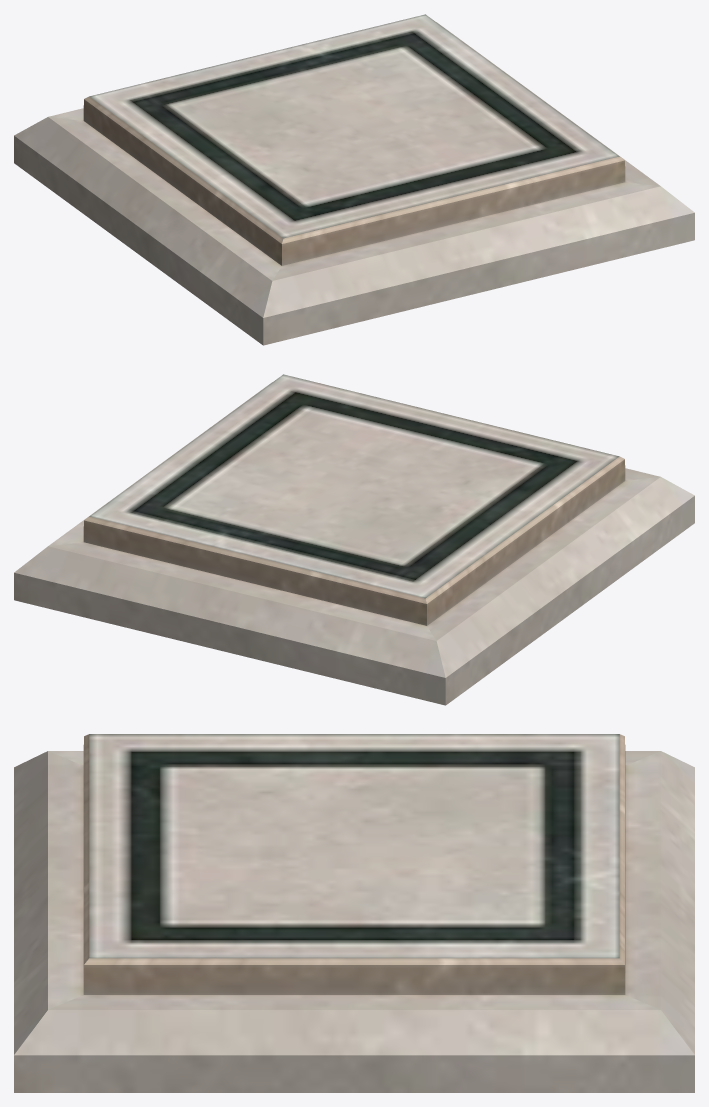
Rendered from column-base-02.glb.
The picture shows the model from 3 angles, top to bottom: view 1: azimuth 30°, elevation 25°; view 2: azimuth 150°, elevation 25°; view 3: azimuth 270°, elevation 25°; orthographic projection. The views are drawn at different scales.
Visible parts, largest first — view 1: Column_Base_02; view 2: Column_Base_02; view 3: Column_Base_02.
Boxes of the visible parts, x1,y1,x2,y2 form: Column_Base_02: [14, 14, 694, 345]; Column_Base_02: [14, 374, 694, 705]; Column_Base_02: [14, 734, 694, 1092].
Size of the model in its own units: 1.79 by 0.298 by 1.79.
Materials: 1 (1 with a texture image).
